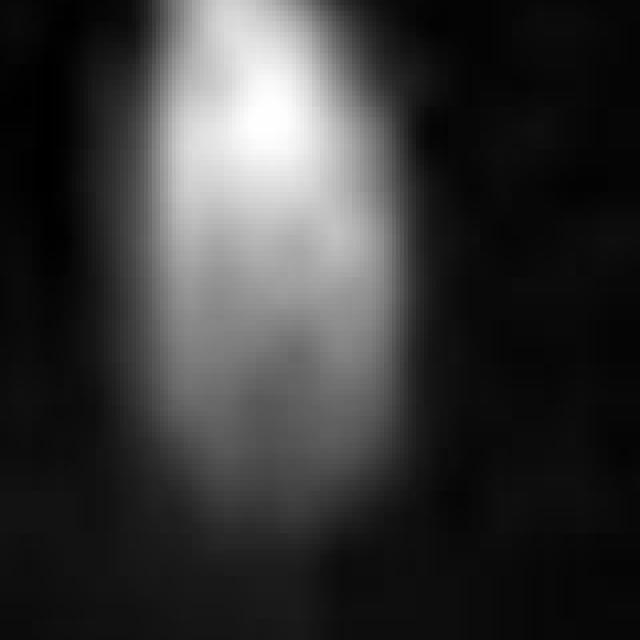person: (81, 1, 429, 540)
